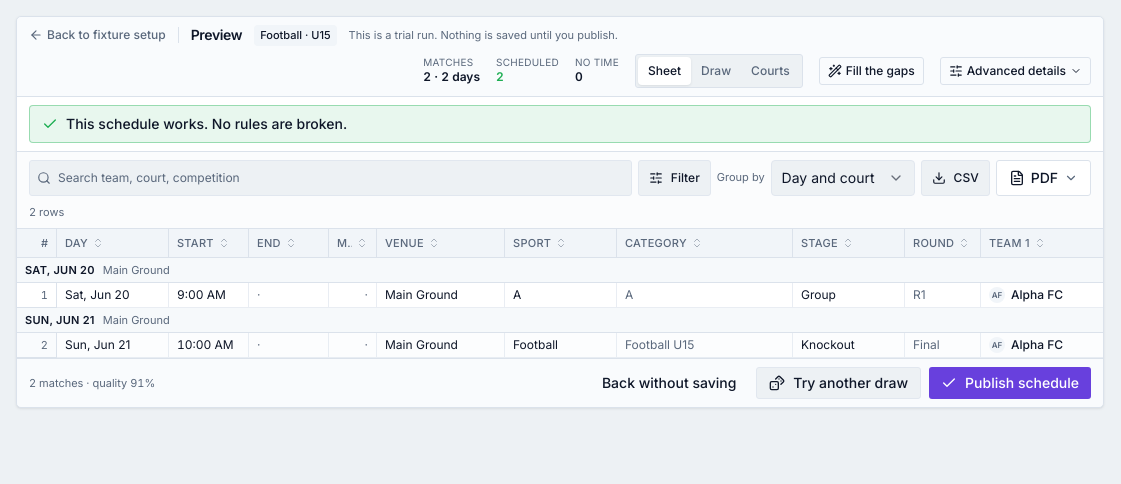
Test: DryRunPreviewPage › 409 inputs_changed shows the banner; preview again re-simulates
Click the button with test id "accept-preview" at (1010, 383), box [929,367,1091,399]
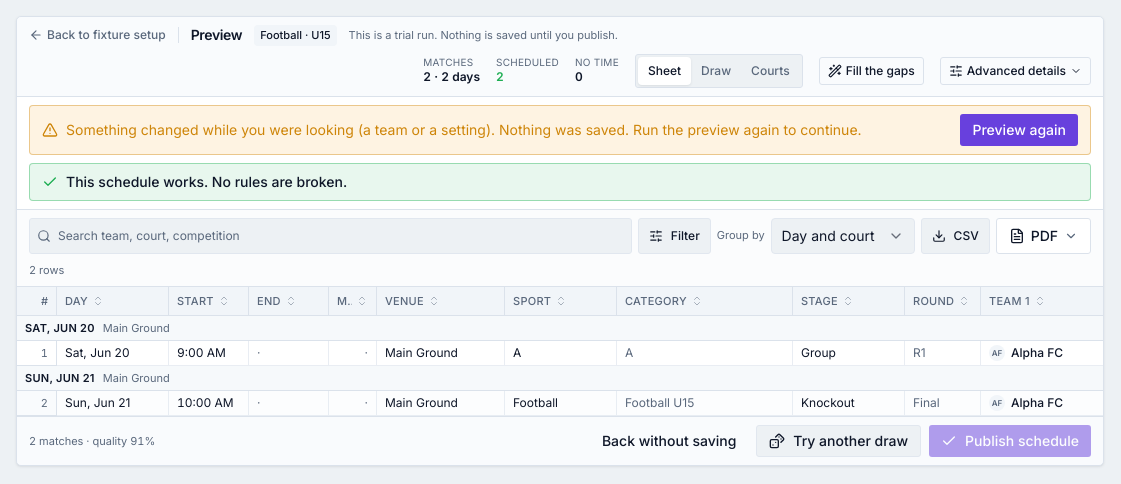
Now the message with test id "inputs-changed-banner" is shown, box [29,104,1091,154]
Now the button with test id "accept-preview" is disabled, box [929,425,1091,457]
Click the button with test id "re-preview" at (1019, 130), box [960,114,1078,146]
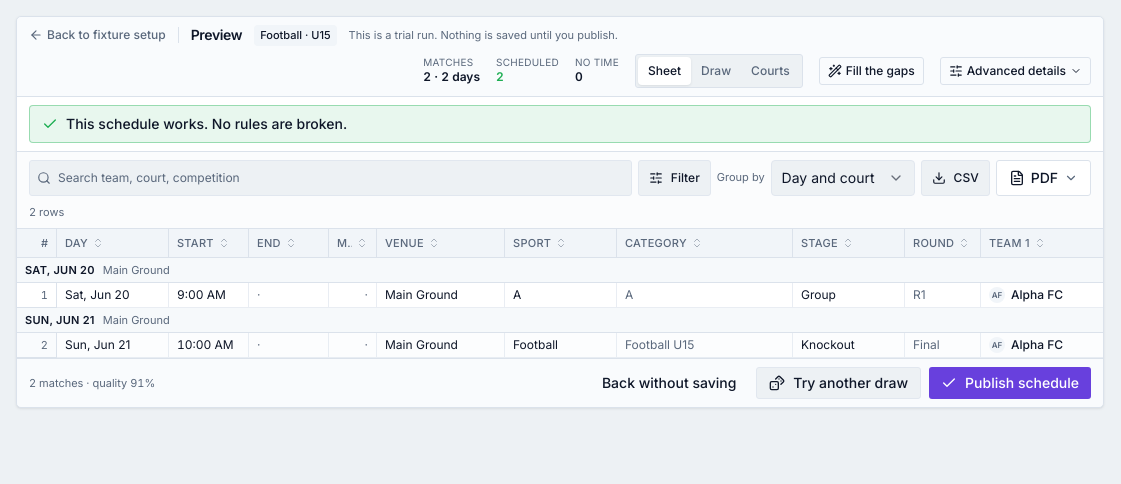
Now the message with test id "inputs-changed-banner" is gone
Now the button with test id "accept-preview" is enabled, box [929,367,1091,399]
